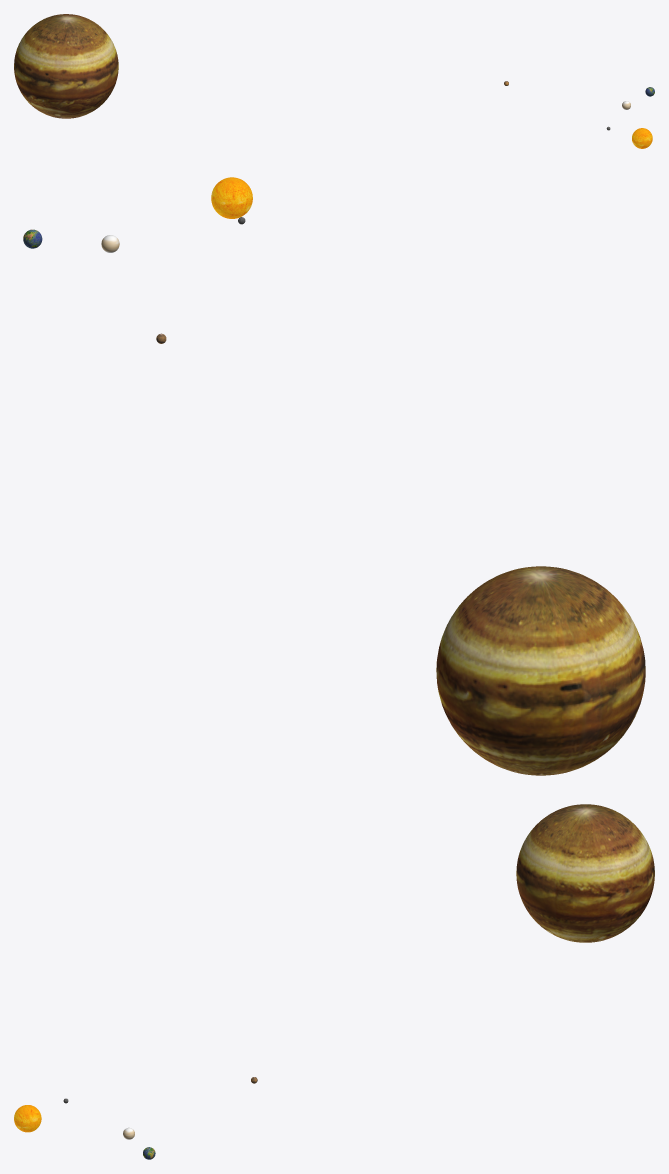
The picture shows the model from 3 angles, top to bottom: view 1: azimuth 30°, elevation 25°; view 2: azimuth 150°, elevation 25°; view 3: azimuth 270°, elevation 25°; orthographic projection. The views are drawn at different scales.
Visible parts, largest first — view 1: object 3, Cube001; view 2: object 3, Cube001; view 3: object 3, Cube001.
Part boxes in pixels (bbox=[...]): object 3: bbox=[14, 14, 118, 118]; Cube001: bbox=[632, 128, 652, 148]; object 3: bbox=[436, 566, 645, 775]; Cube001: bbox=[211, 177, 252, 218]; object 3: bbox=[516, 804, 654, 942]; Cube001: bbox=[14, 1105, 41, 1132].
Bounding box in the file's own units: 48.27 × 9.35 × 43.21.
Materials: 6 (6 with a texture image).
